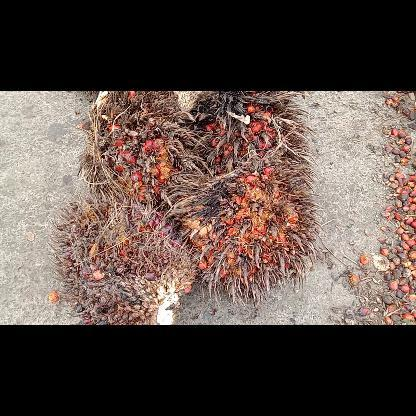Terlalu masak: (172, 152, 322, 306), (48, 190, 196, 324), (76, 91, 204, 207), (184, 91, 314, 175)
